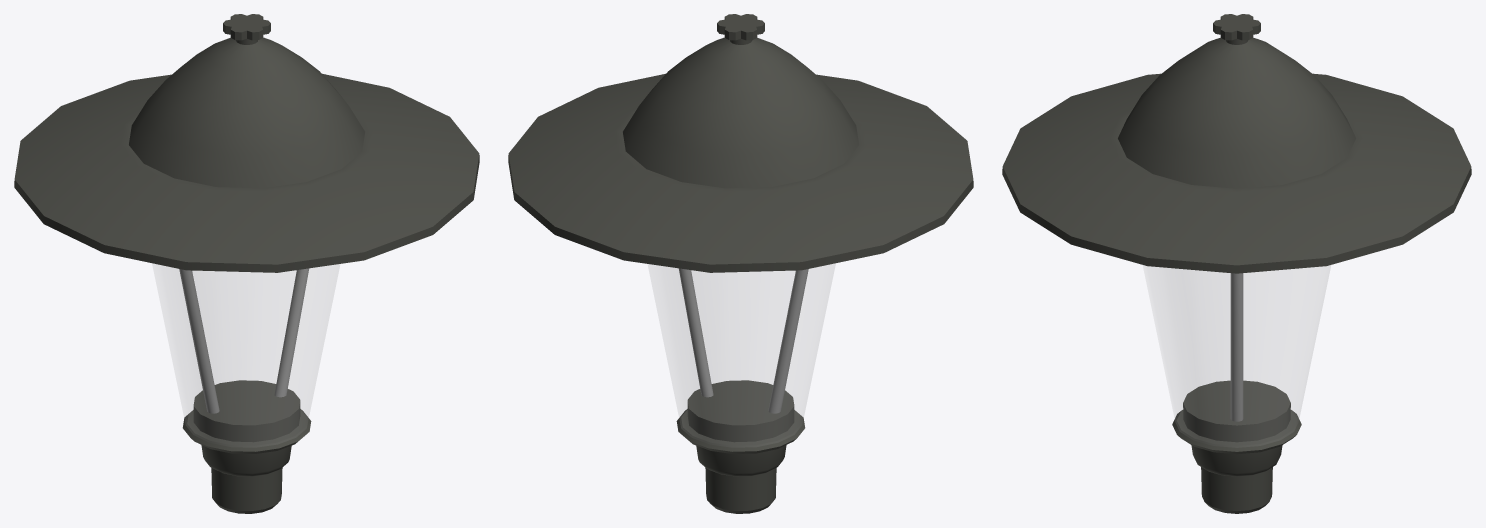
The model's file is Kelch.glb.
3 renders of one model, left to right at view 1: azimuth 30°, elevation 25°; view 2: azimuth 150°, elevation 25°; view 3: azimuth 270°, elevation 25°, orthographic.
Parts seen in each view (by area): view 1: BezierCurve.001, Glas, Stab, Cylinder; view 2: BezierCurve.001, Glas, Stab, Cylinder; view 3: BezierCurve.001, Glas, Stab, Cylinder.
Part boxes in pixels (x1,y1,x2,y2): BezierCurve.001: (14,37,479,513); Glas: (152,264,339,446); Stab: (179,268,309,413); Cylinder: (223,14,270,40); BezierCurve.001: (508,37,973,513); Glas: (648,264,835,446); Stab: (678,268,808,413); Cylinder: (717,14,764,40); BezierCurve.001: (1002,37,1471,513); Glas: (1143,265,1330,447); Stab: (1230,273,1243,421); Cylinder: (1213,14,1260,40).
Size of the model in its own units: 0.5261 by 0.5918 by 0.5261.
4 materials, 3 textured.
